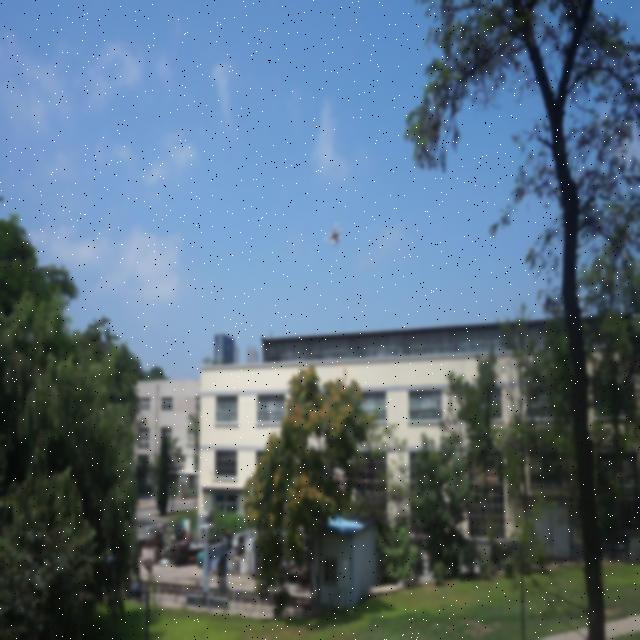UAV: (324, 222, 343, 247)
